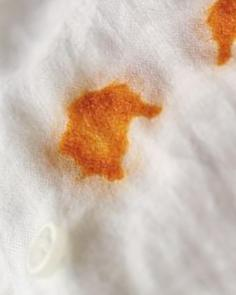stain: (44, 80, 166, 188), (198, 0, 236, 75)
